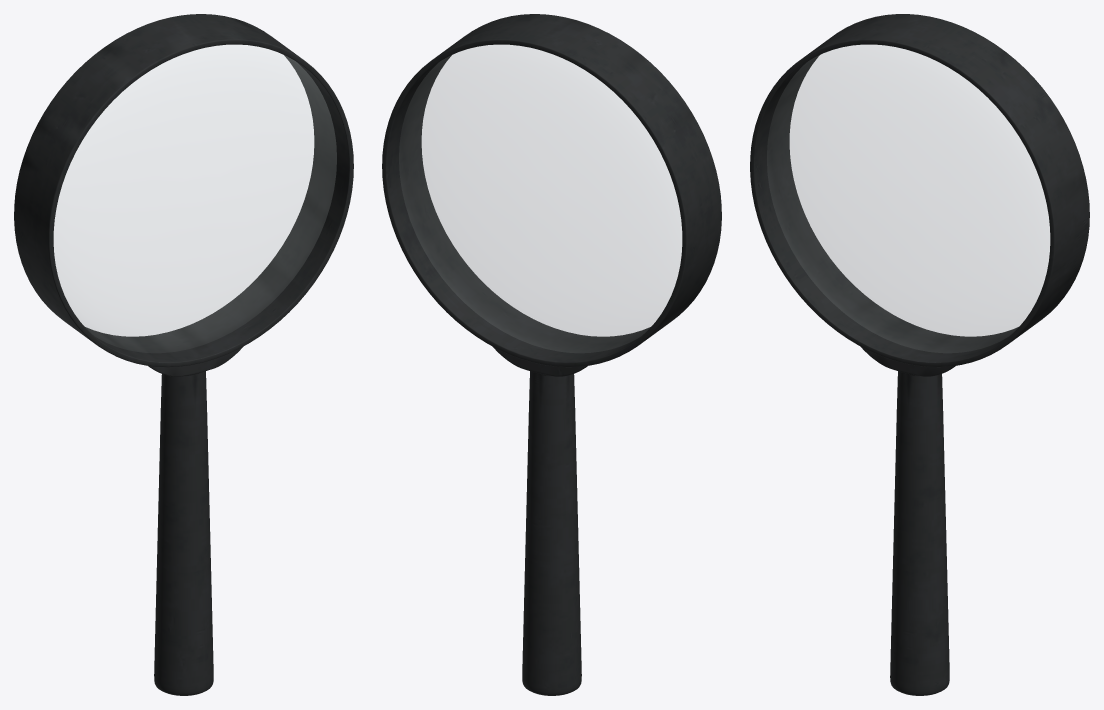
Rendered from premium-ph-magnifier.glb.
The picture shows the model from 3 angles, left to right: view 1: azimuth 30°, elevation 25°; view 2: azimuth 150°, elevation 25°; view 3: azimuth 330°, elevation 25°; orthographic projection.
Parts seen in each view (by area): view 1: magnifying_glass_01; view 2: magnifying_glass_01; view 3: magnifying_glass_01.
Part boxes in pixels (x1,y1,x2,y2): magnifying_glass_01: (14, 14, 353, 695); magnifying_glass_01: (382, 14, 721, 695); magnifying_glass_01: (750, 14, 1089, 695).
Size of the model in its own units: 0.1321 by 0.2716 by 0.0267.
2 materials, 1 textured.
